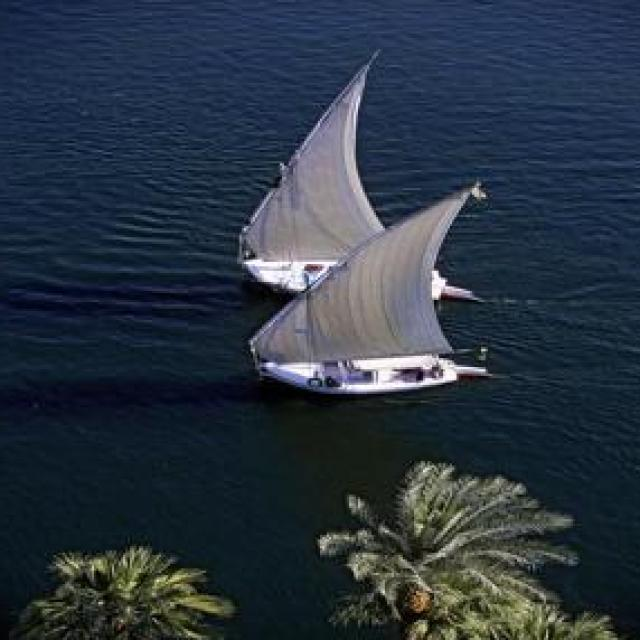sailboat: (254, 178, 489, 398), (246, 47, 447, 298)
